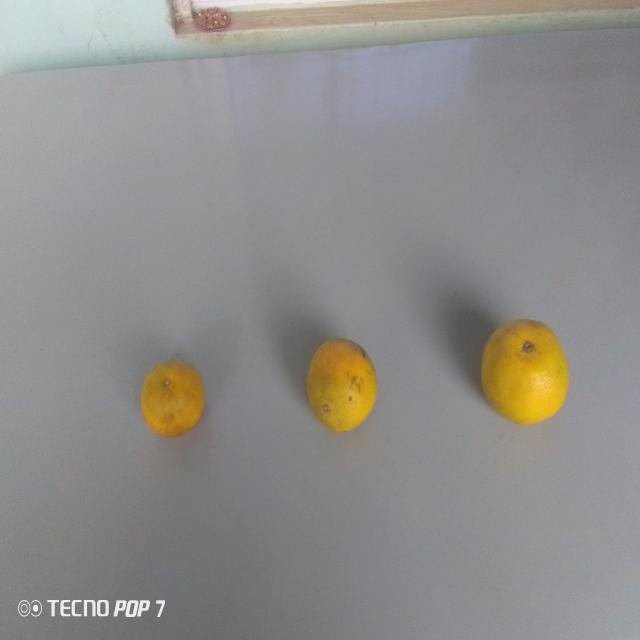Ripe orange: (472, 312, 574, 433), (296, 336, 390, 438), (133, 336, 214, 448)
